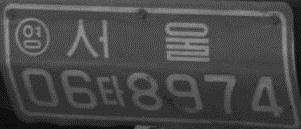0: (20, 68, 59, 107)
4: (250, 75, 283, 119)
6: (60, 68, 95, 109)
7: (204, 72, 236, 116)
8: (126, 71, 163, 111)
9: (165, 72, 201, 114)
서울_D: (66, 16, 211, 63)
영: (13, 17, 50, 57)
타: (97, 75, 125, 108)
